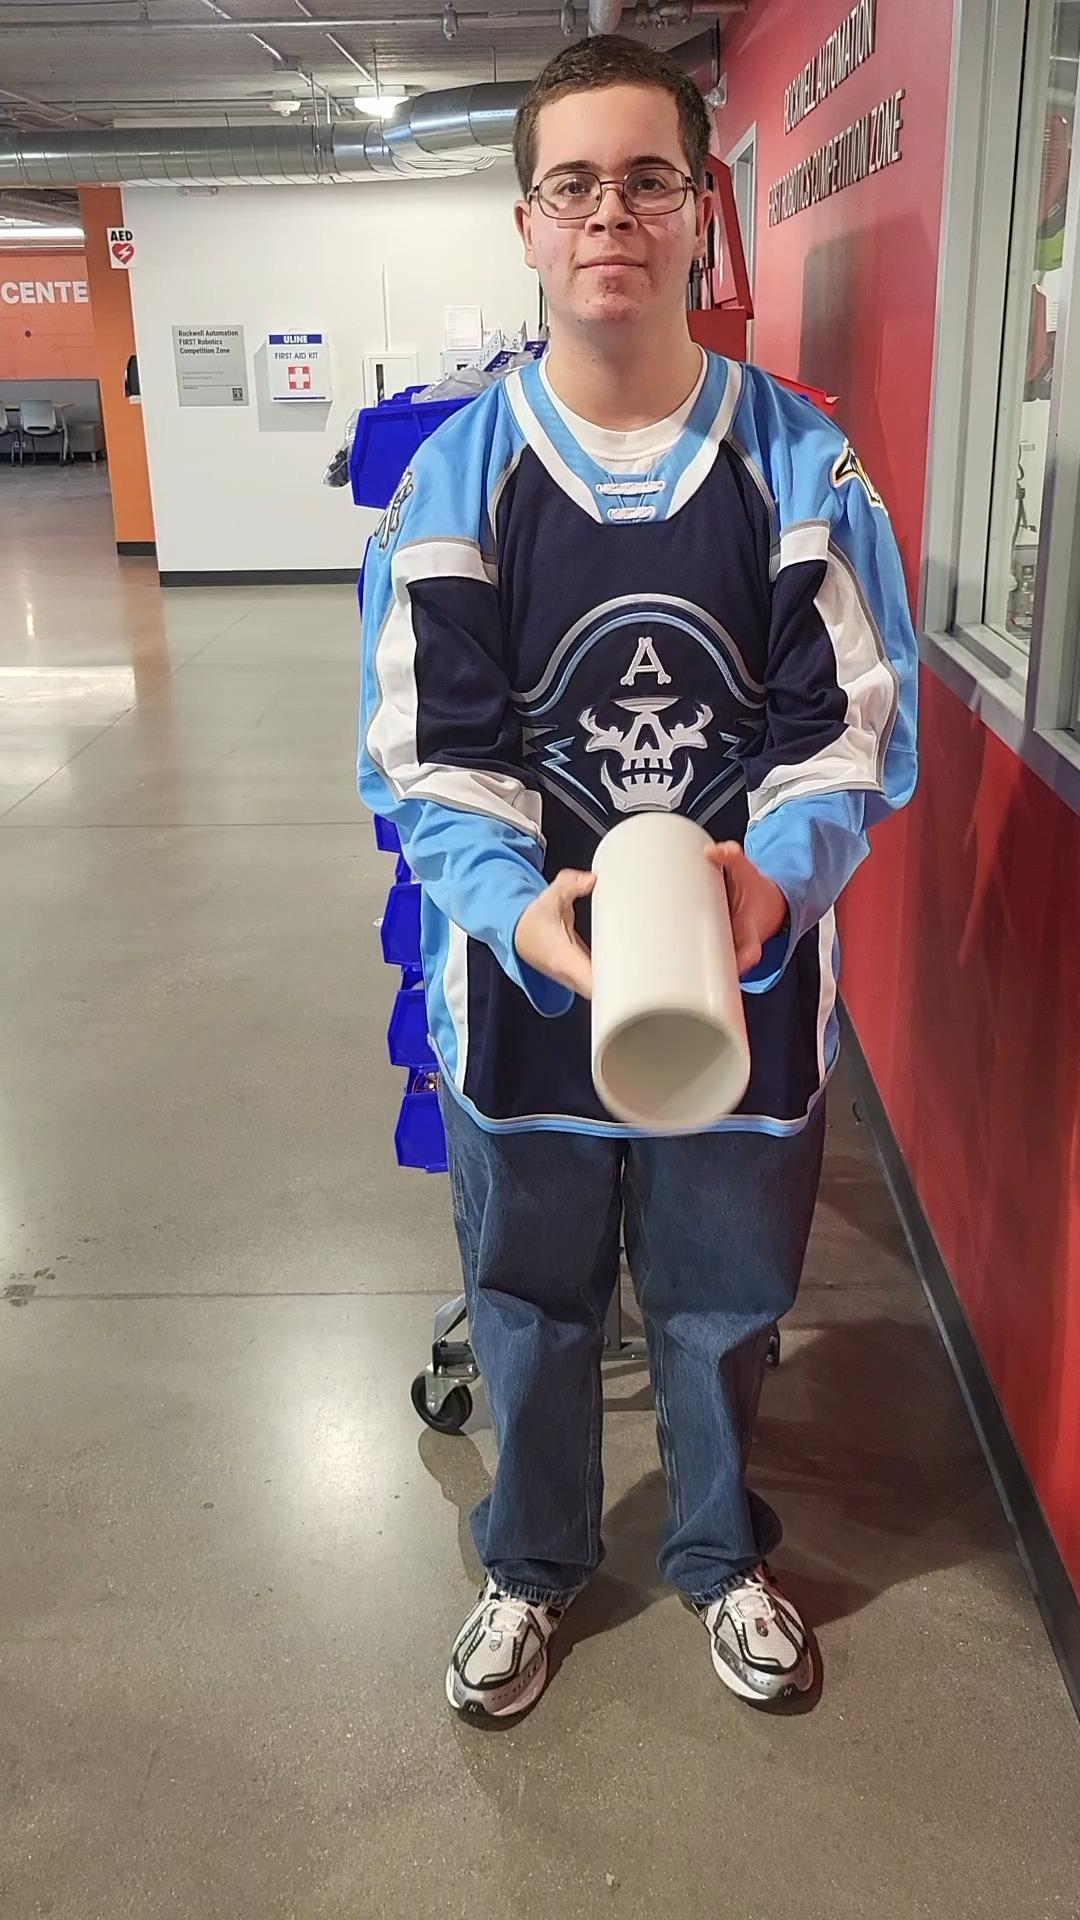coral: (587, 811, 760, 1147)
